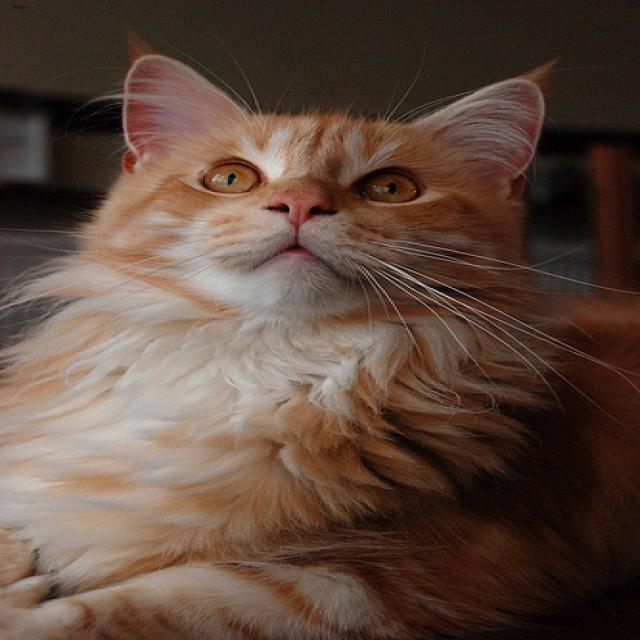Maine_Coon: (75, 50, 569, 341)
